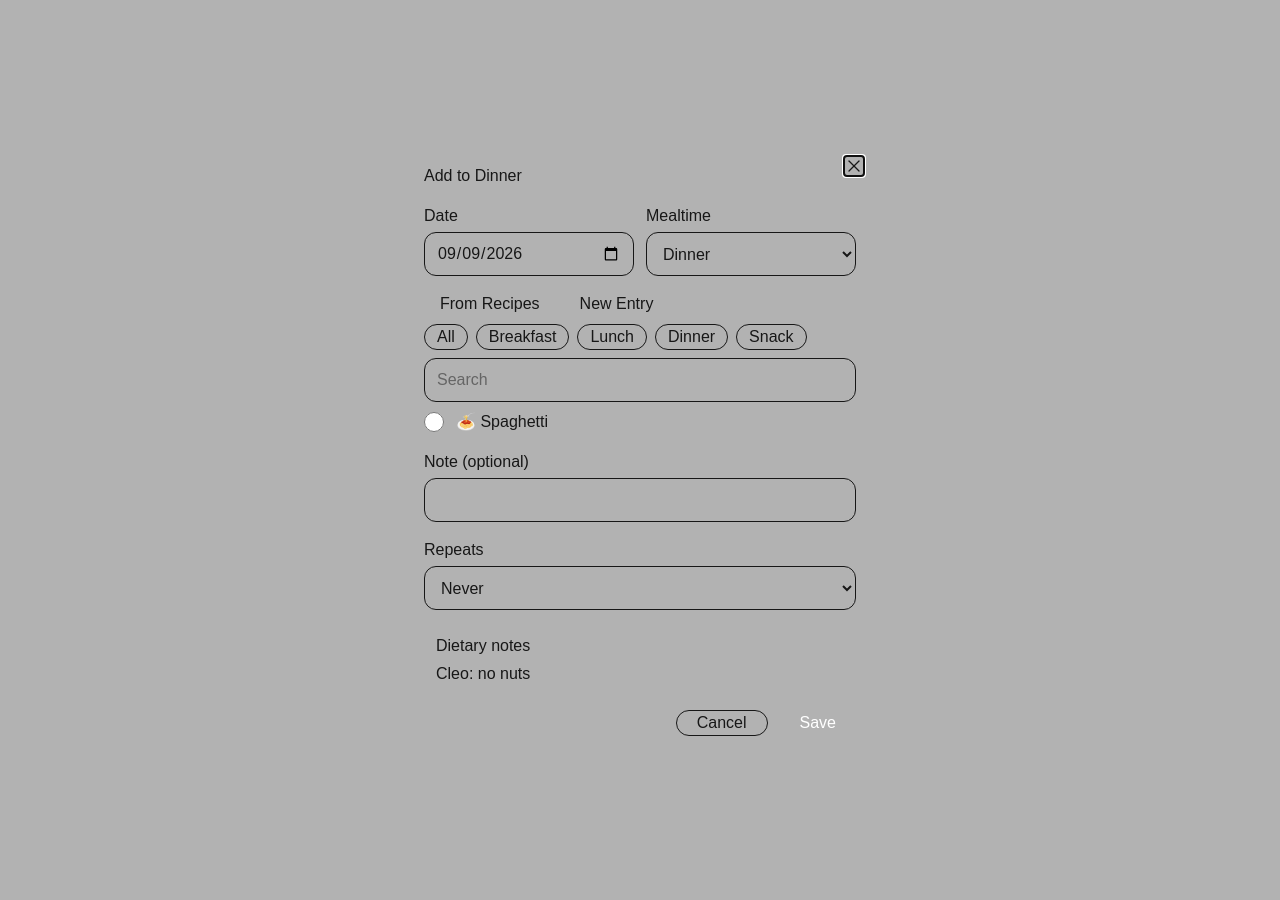
Test: MealSheet — add › searches the library by name and text
This screenshot has width=1280, height=900.
Step 1. Click the radio button labelled "All" → coordinates (446, 337), box [424,324,468,350]
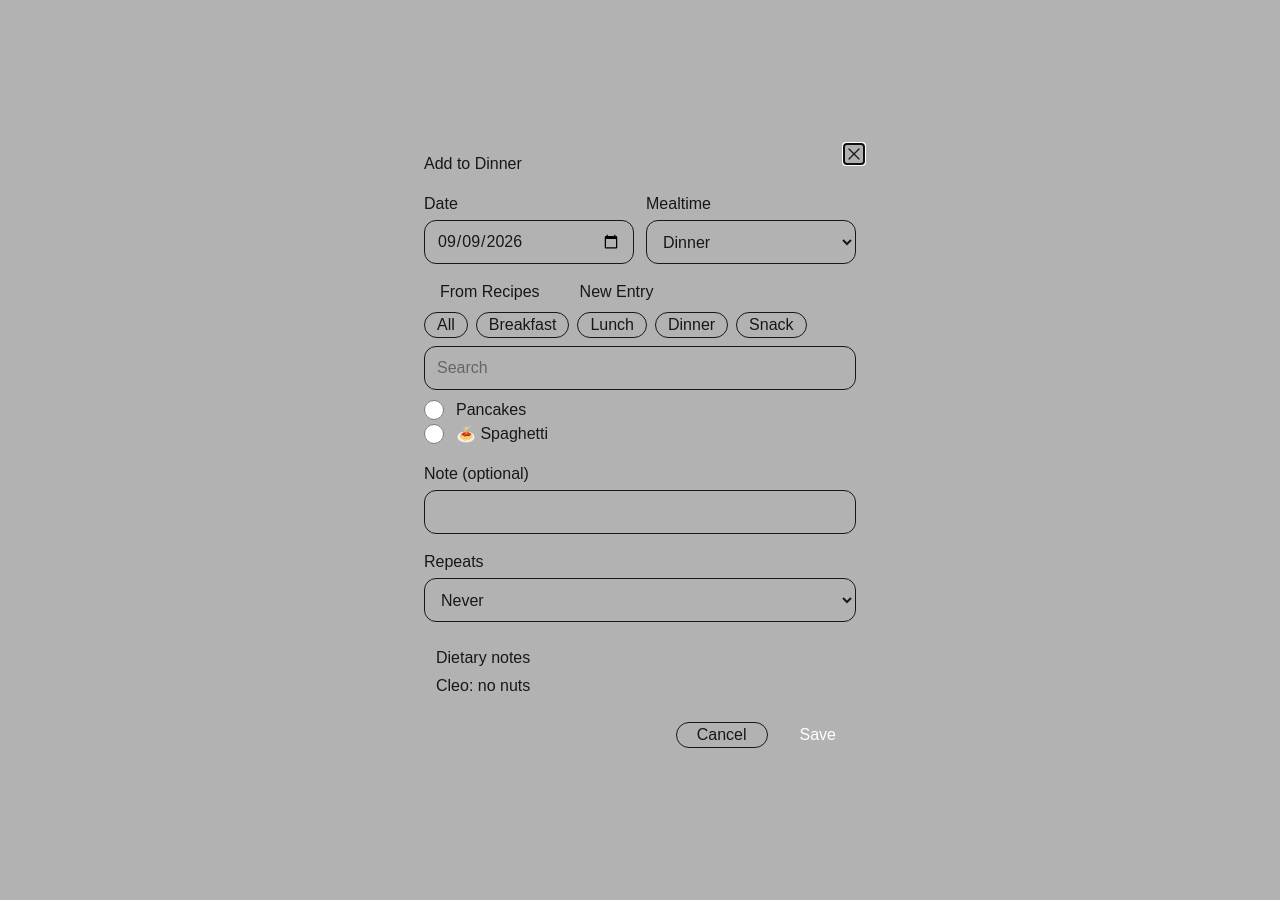
Step 2. Type "flour" into the search field named "Search recipes" → coordinates (640, 368), box [424,346,856,390]
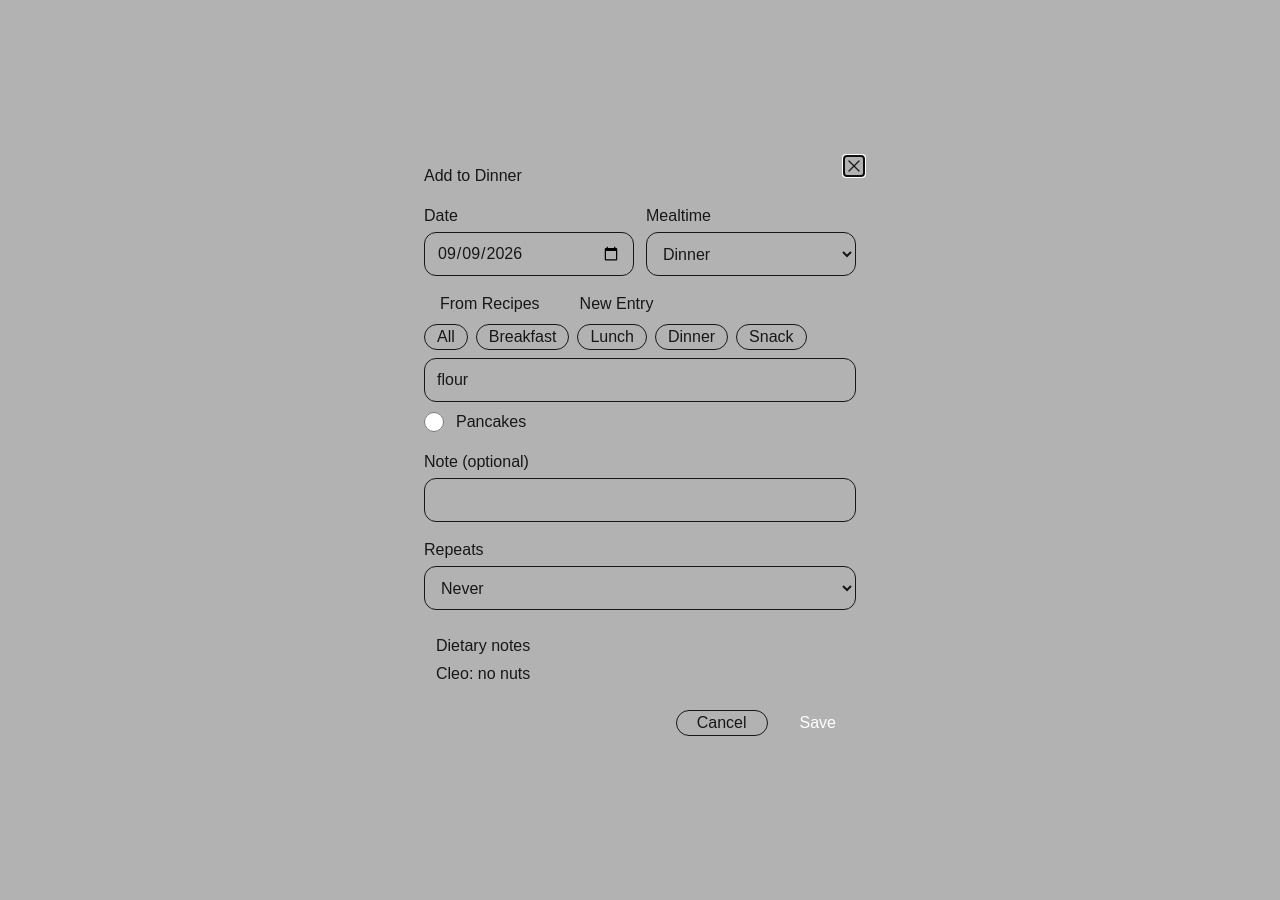
Now the number of radio buttons labelled "Pancakes" is 1, box [424,412,444,432]
